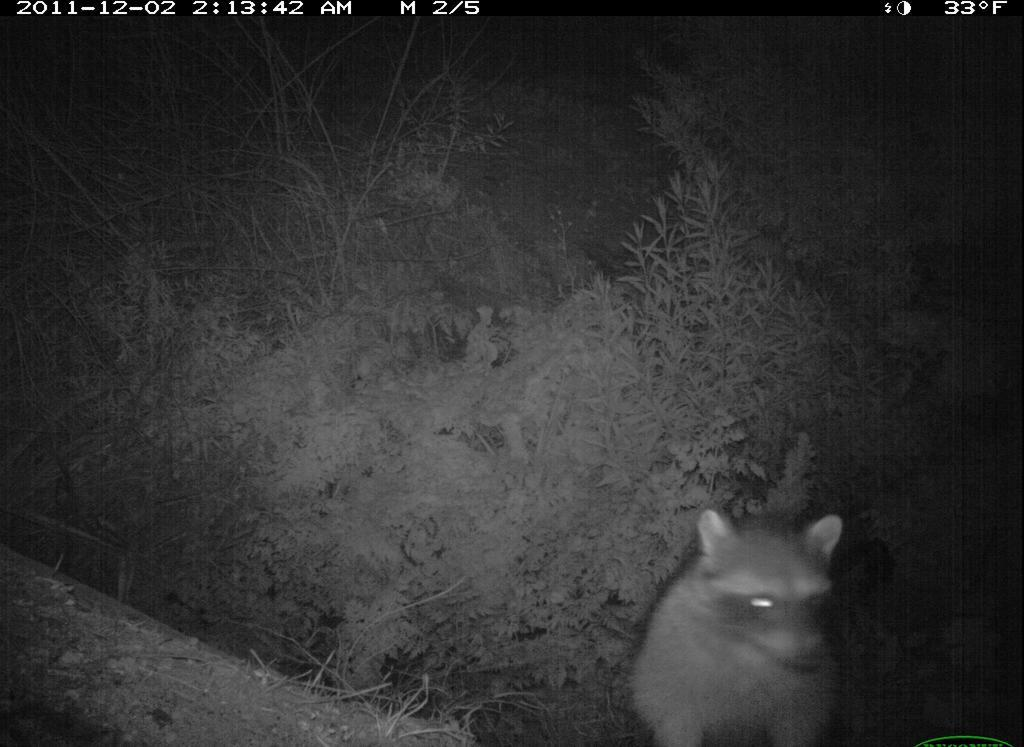raccoon: (621, 492, 866, 747)
